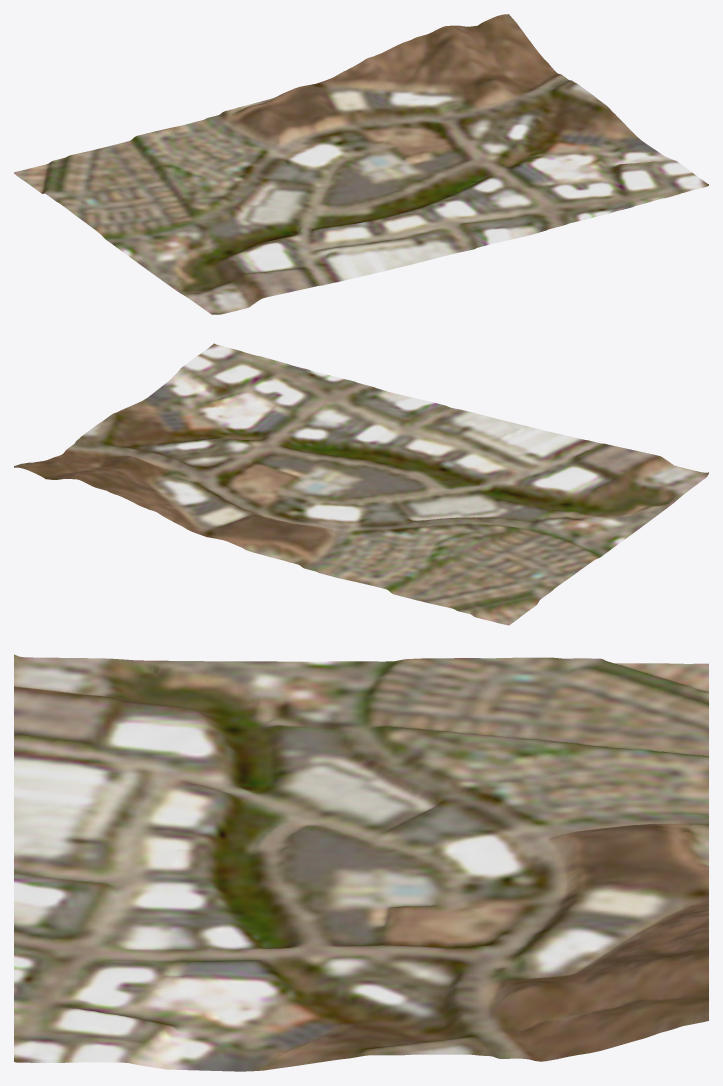
File: terrain_r3_c5.glb
The picture shows the model from 3 angles, top to bottom: view 1: azimuth 30°, elevation 25°; view 2: azimuth 150°, elevation 25°; view 3: azimuth 270°, elevation 25°; orthographic projection. The views are drawn at different scales.
Parts seen in each view (by area): view 1: terrain_r3_c5_lod0; view 2: terrain_r3_c5_lod0; view 3: terrain_r3_c5_lod0.
Part boxes in pixels (x1,y1,x2,y2): terrain_r3_c5_lod0: [14, 14, 708, 314]; terrain_r3_c5_lod0: [14, 343, 708, 625]; terrain_r3_c5_lod0: [14, 654, 708, 1071].
Size of the model in its own units: 1125 by 92.77 by 787.
Materials: 1 (1 with a texture image).
